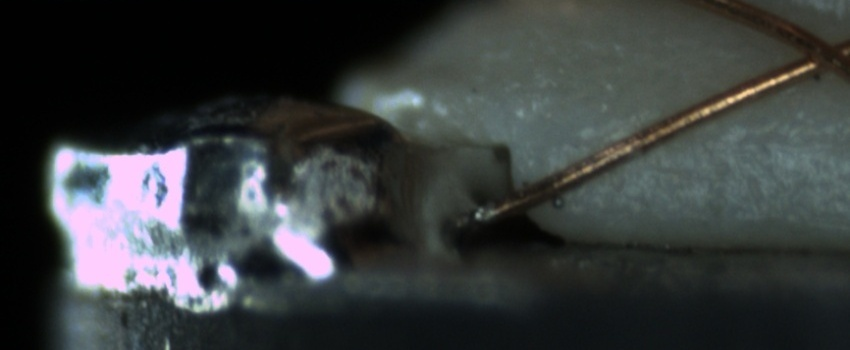CL: (773, 17, 848, 84)
DL: (683, 107, 847, 170)
